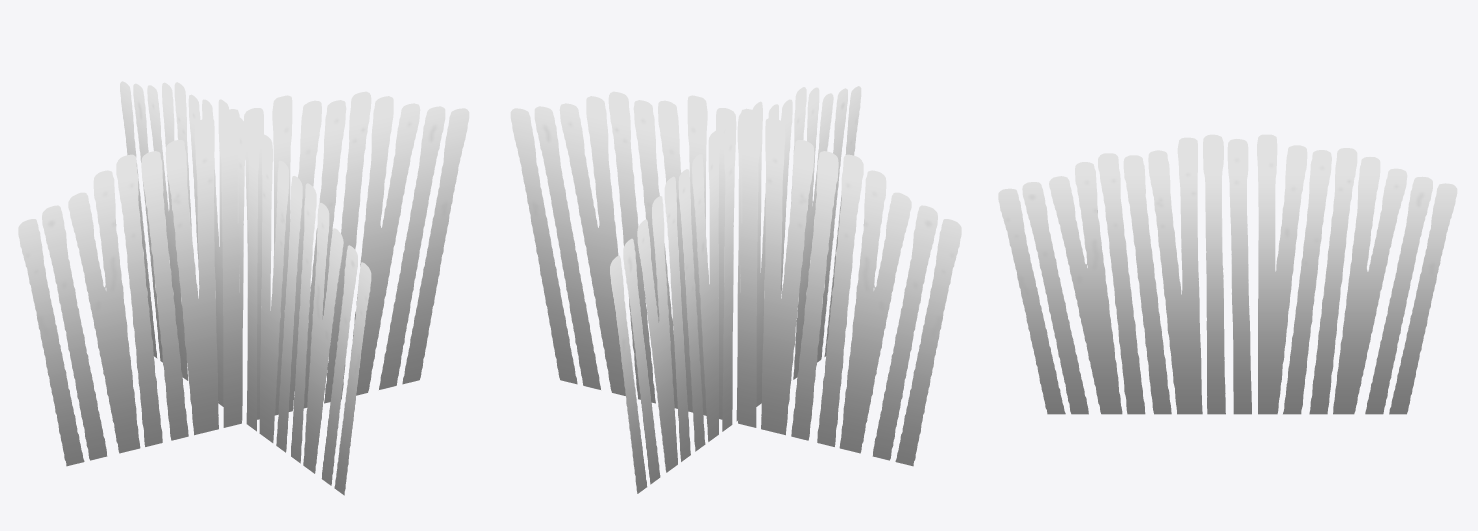
The model's file is SM_Nature_Grass_02.fbx.
3 renders of one model, left to right at view 1: azimuth 30°, elevation 25°; view 2: azimuth 150°, elevation 25°; view 3: azimuth 270°, elevation 25°, orthographic. The views are drawn at different scales.
Parts seen in each view (by area): view 1: SM_Nature_Grass_02; view 2: SM_Nature_Grass_02; view 3: SM_Nature_Grass_02.
Part boxes in pixels (x1=…): SM_Nature_Grass_02: x1=18, y1=81, x2=469, y2=495; SM_Nature_Grass_02: x1=510, y1=86, x2=961, y2=493; SM_Nature_Grass_02: x1=998, y1=134, x2=1457, y2=414.
Size of the model in its own units: 0.4723 by 0.3189 by 0.456.
